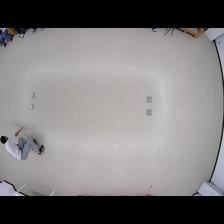fall: (1, 123, 46, 161)
